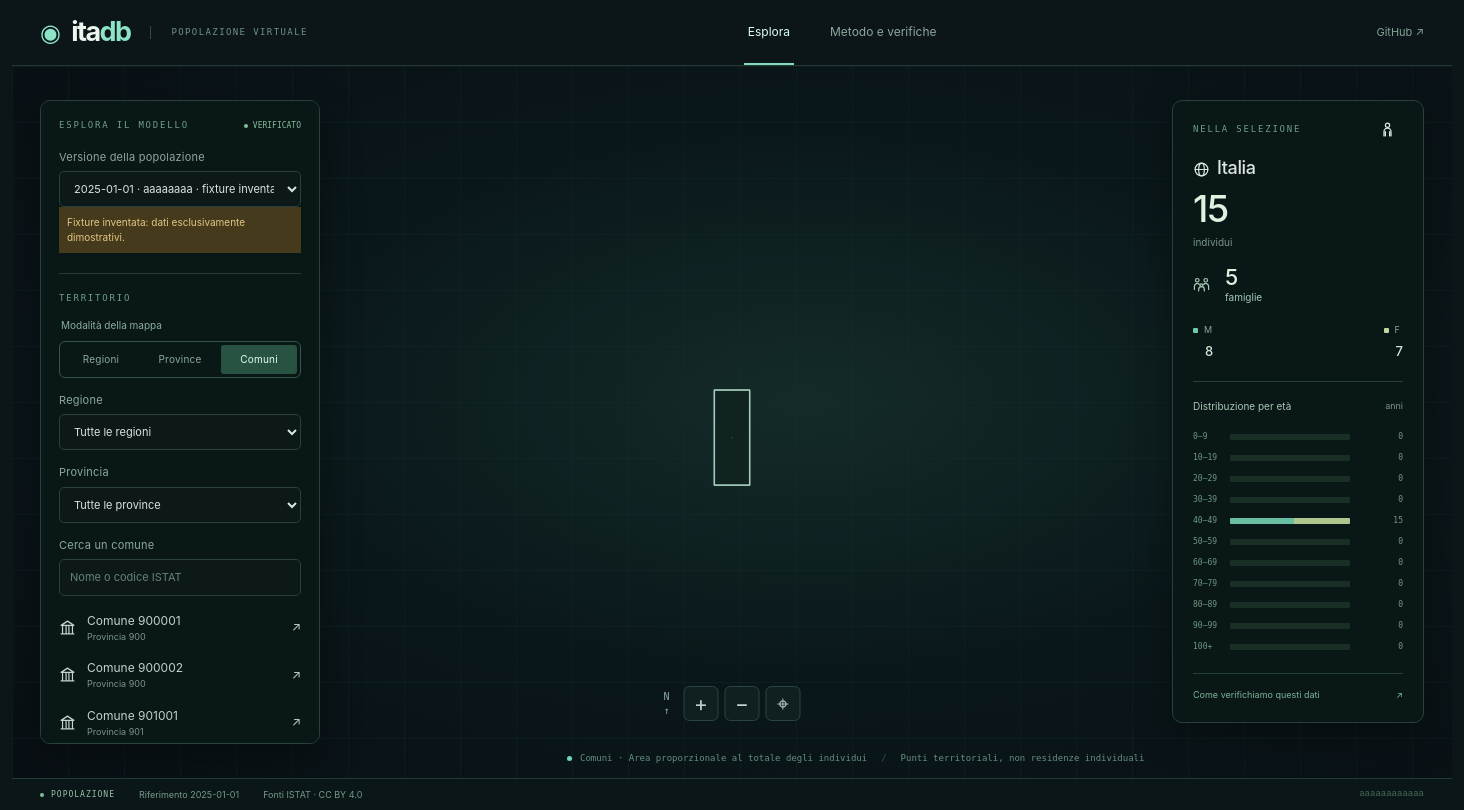
Scenario: Modalità territoriali di Esplora › gestisce ricerca vuota, errore e riprova anche nella selezione provinciale
Expected: the button "Comune 900001 Provincia 900 ↗" is shown, [56,604,304,651]
Click the radio button labelled "Province": (180, 358) [158,352,202,364]
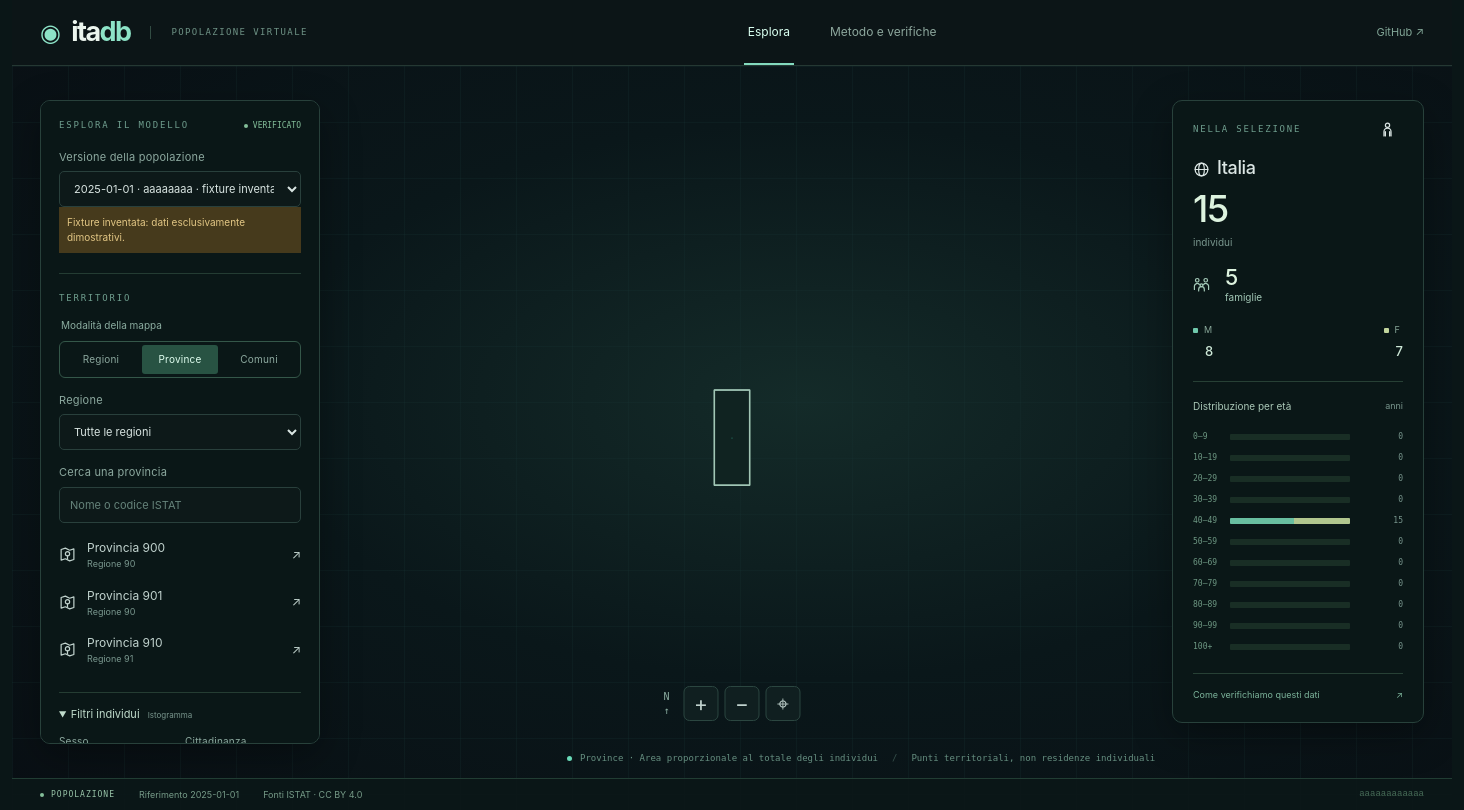
In the search field labelled "Cerca una provincia": (180, 505) [59,486,301,523], type "inesistente"
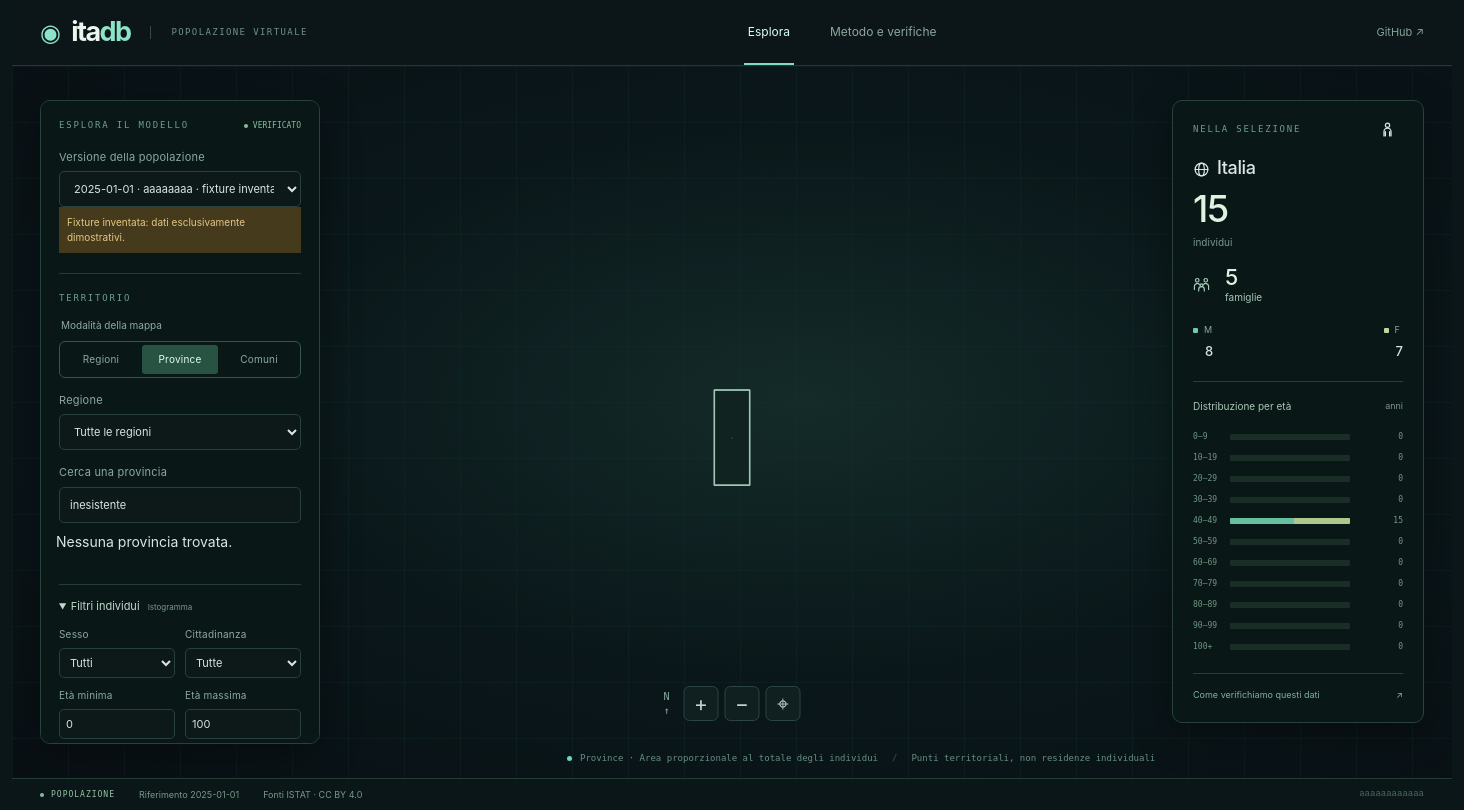
Result: the text "Nessuna provincia trovata." is shown at [56,533,232,550]
Replace the text in the search field labelled "Cerca una provincia" with "910": (180, 505) [59,486,301,523]
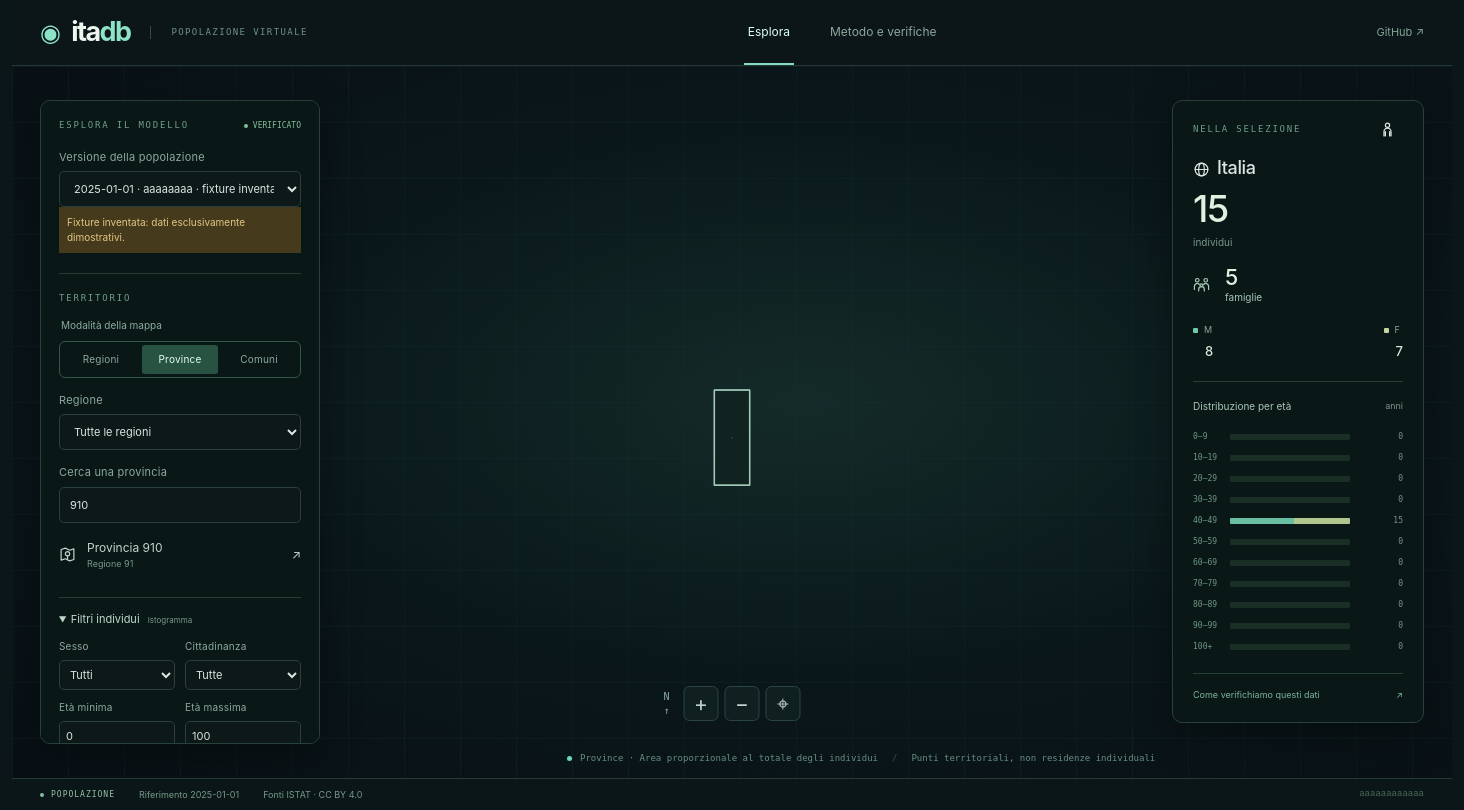
Click the button "Provincia 910 Regione 91 ↗": (180, 555) [56,531,304,578]
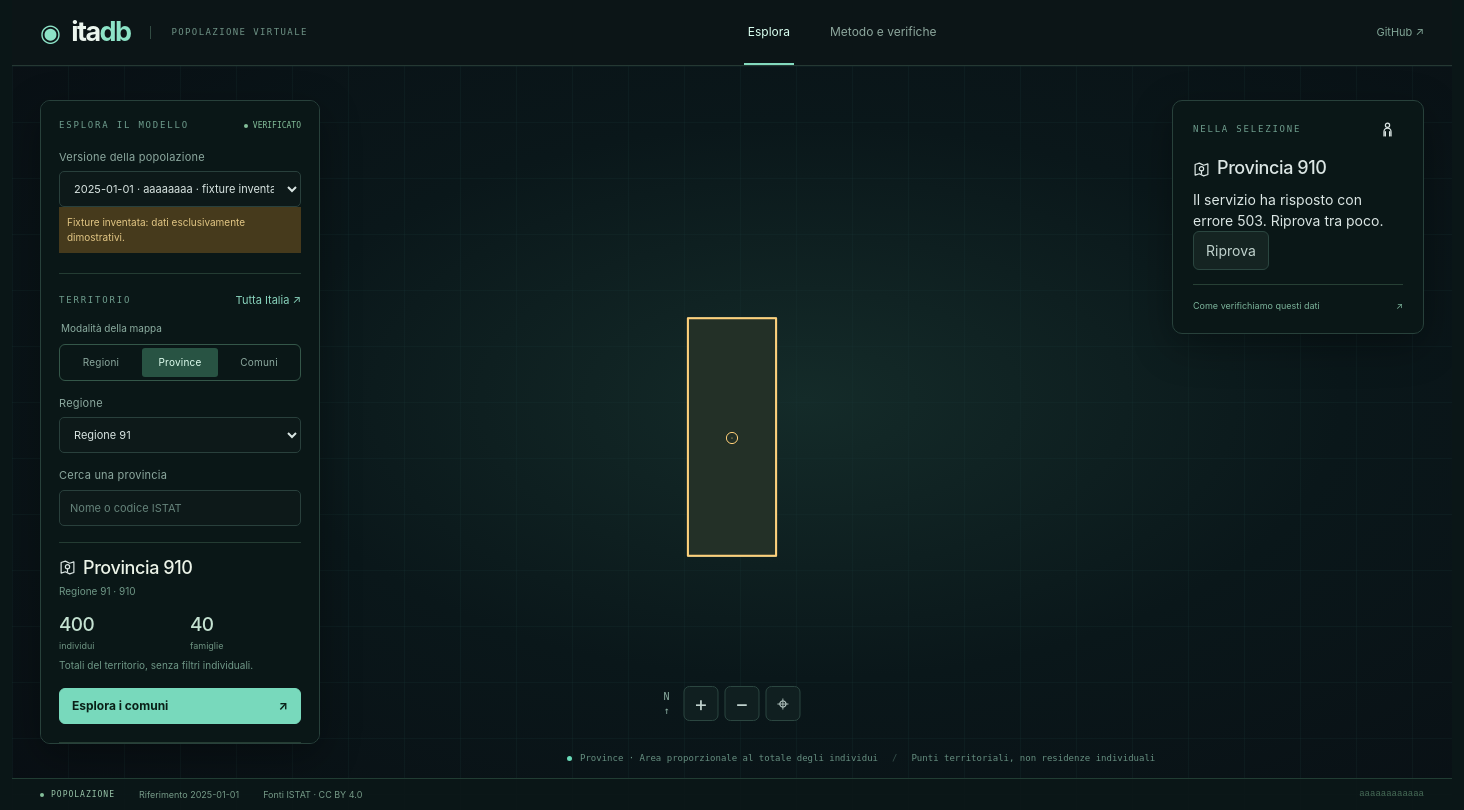
Result: the message shows "503" at [1193,191,1383,229]
Result: the text "Distribuzione per età" is gone
Click the button "Riprova": (1231, 250) [1193,231,1269,270]
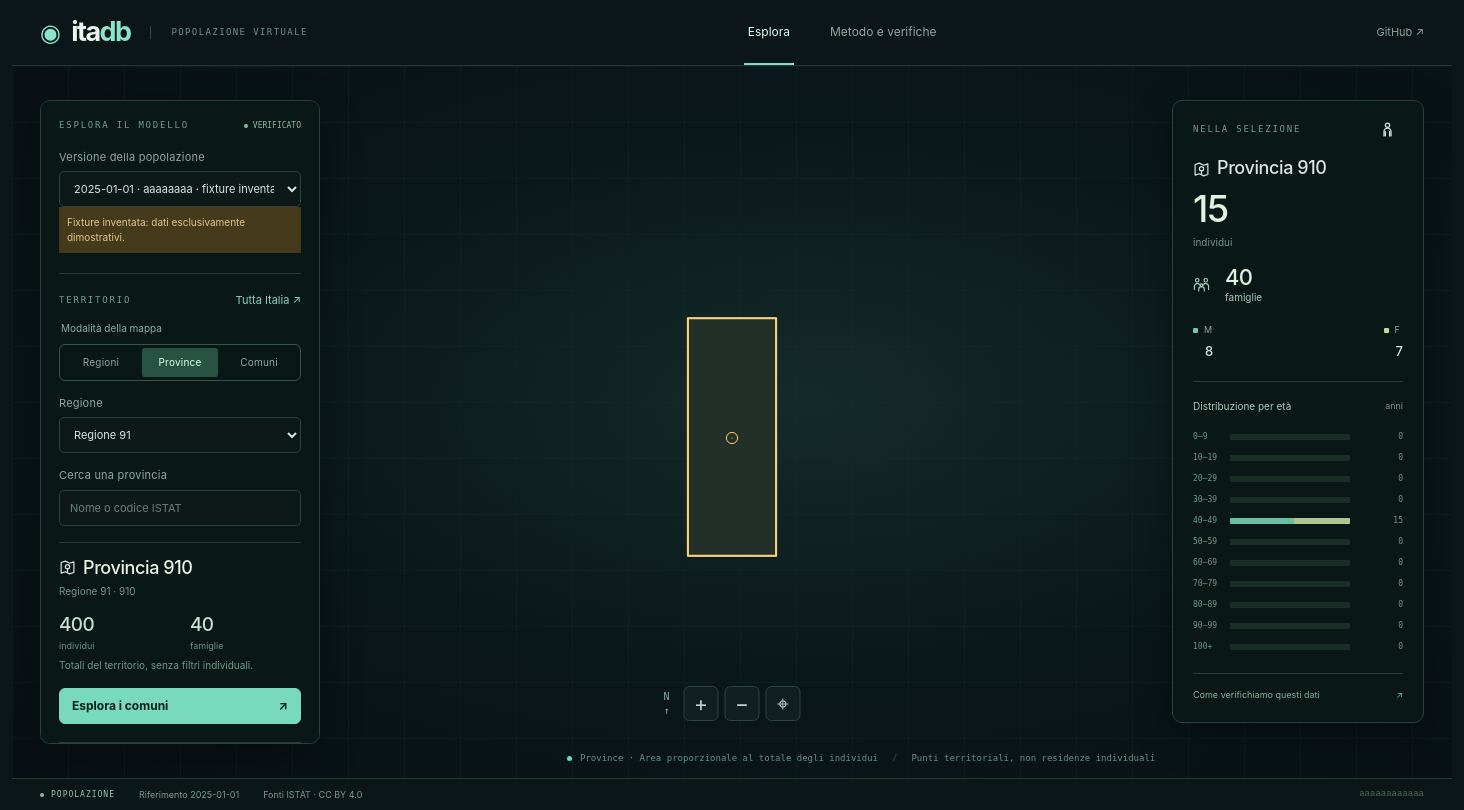
Result: the picture named "Distribuzione per età di Provincia 910" is shown at [1193,431,1403,653]
